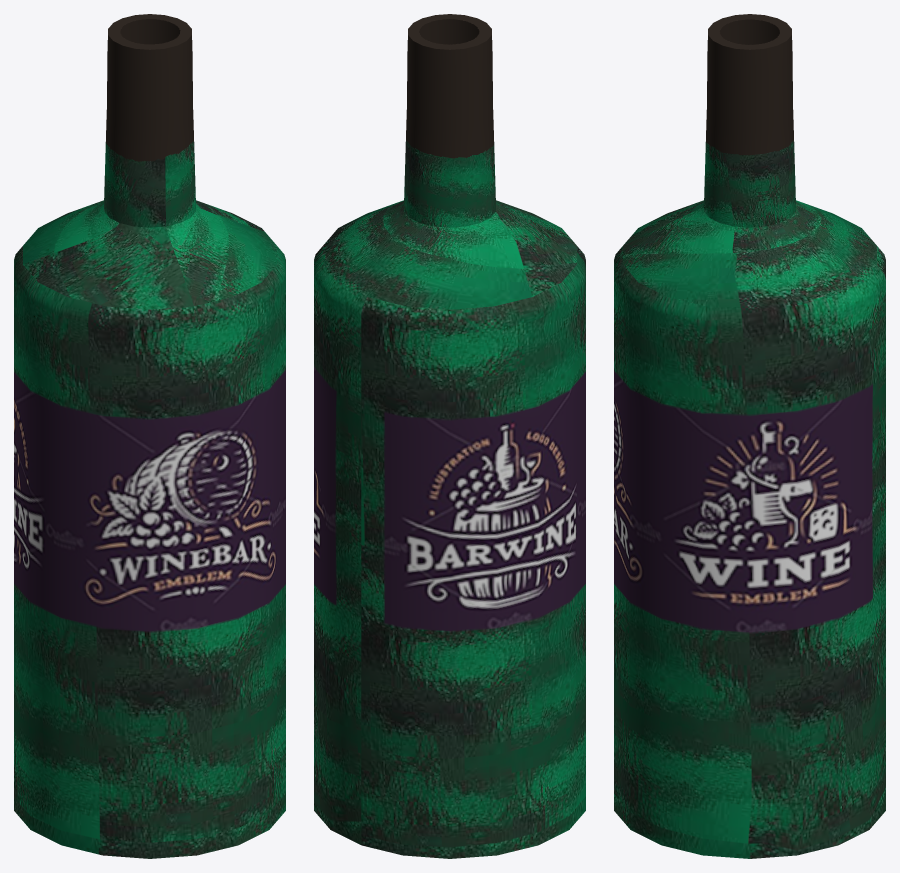
Rendered from Viinipullo.FBX.
3 renders of one model, left to right at view 1: azimuth 30°, elevation 25°; view 2: azimuth 150°, elevation 25°; view 3: azimuth 270°, elevation 25°, orthographic.
Visible parts, largest first — view 1: Cylinder001; view 2: Cylinder001; view 3: Cylinder001.
Part boxes in pixels (x1,y1,x2,y2): Cylinder001: (14, 14, 285, 858); Cylinder001: (314, 14, 585, 858); Cylinder001: (614, 14, 885, 858).
Size of the model in its own units: 69.52 by 214 by 68.46.
